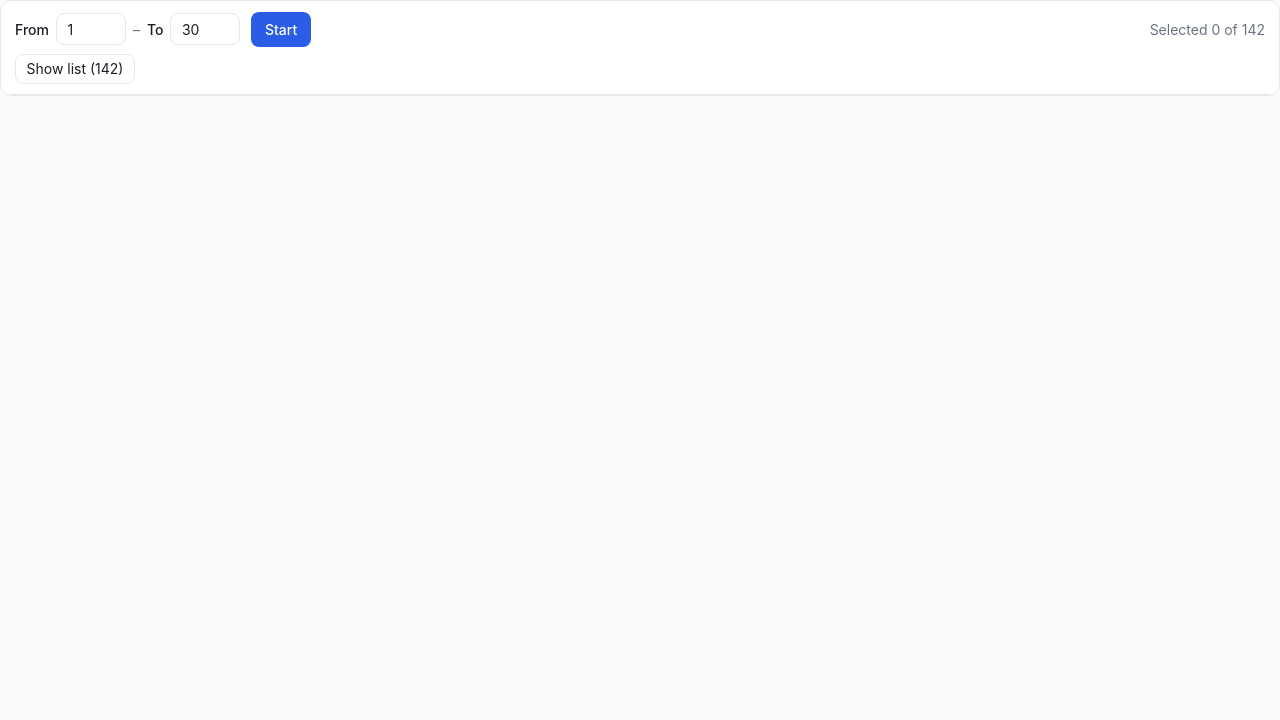
Test: ChapterList 1.4 - selection helpers › Start 1-30 →30 checkboxów zaznaczonych, label Wybrano 30 z 142, fetch z zakresem
The width and height of the screenshot is (1280, 720).
Click the button with test id "chapter-list-toggle".
click(75, 68)  # box [15,54,135,84]
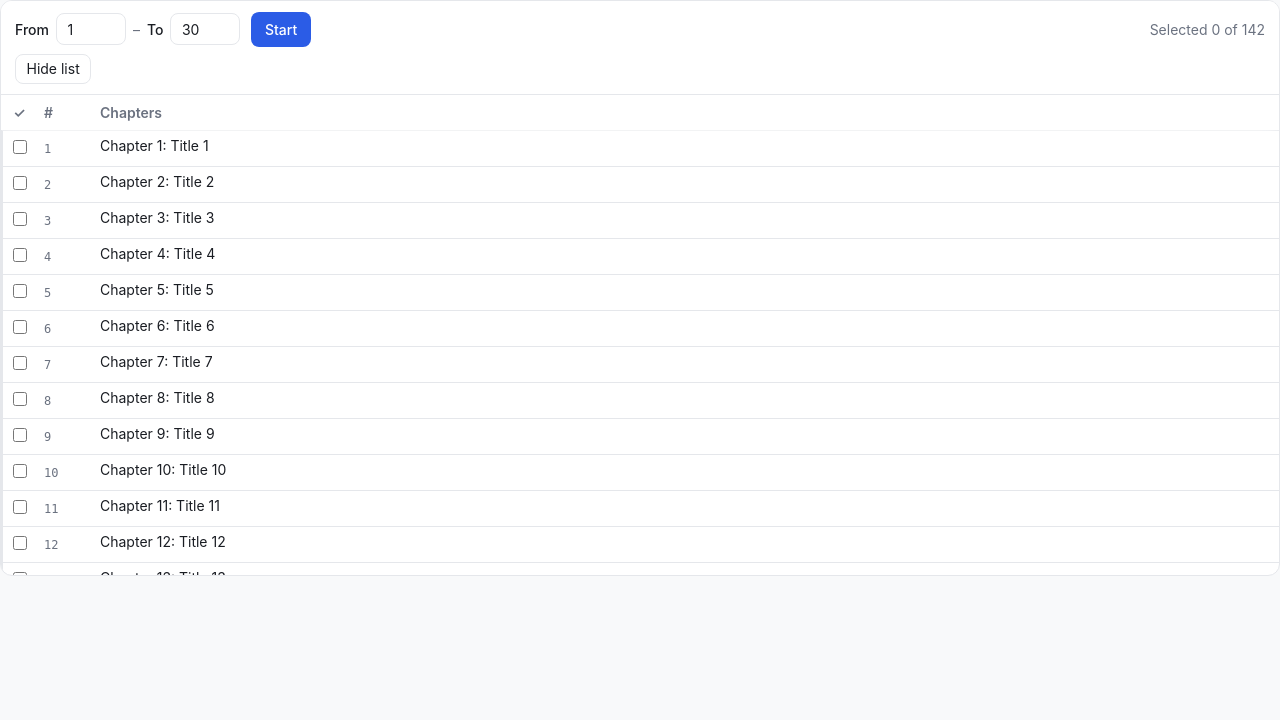
expect the text with test id "selected-label" shows "0": met, box [1150,20,1265,38]
Click the button with test id "range-start".
click(281, 29)  # box [251,12,311,46]
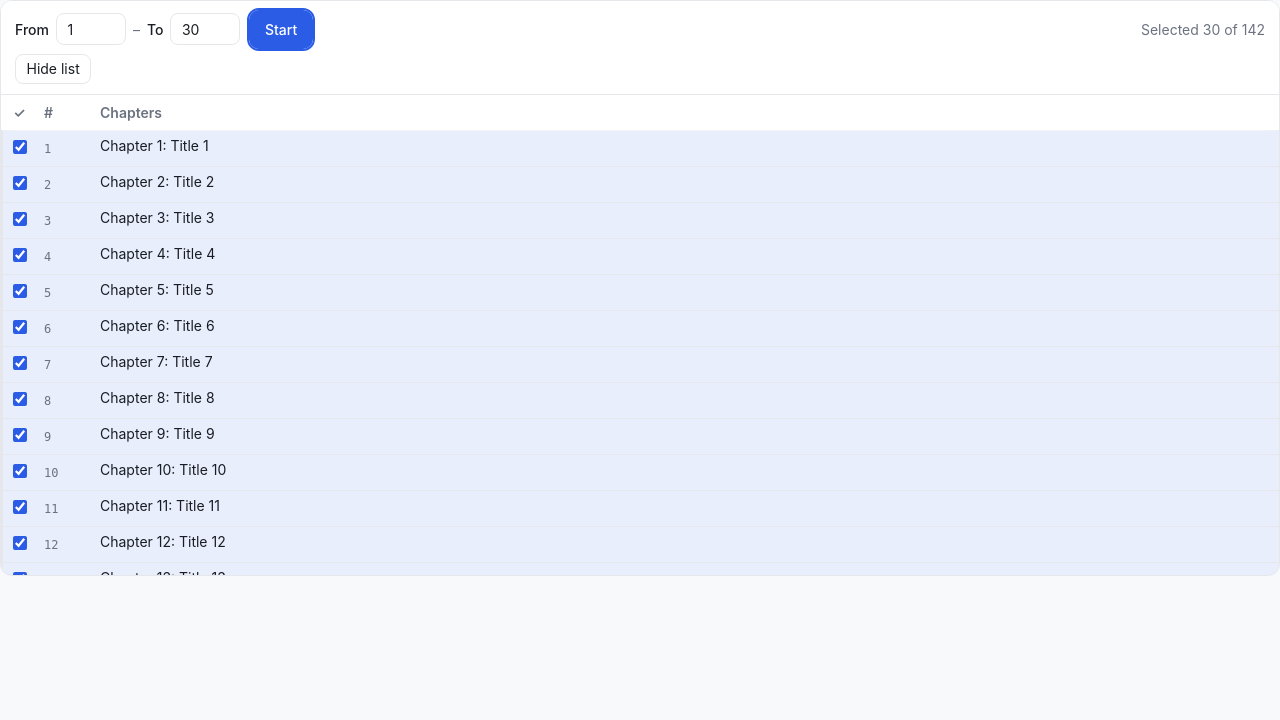
expect the text with test id "selected-label" shows "142": met, box [1141,20,1265,38]
expect the text with test id "selected-label" shows "30": met, box [1141,20,1265,38]
